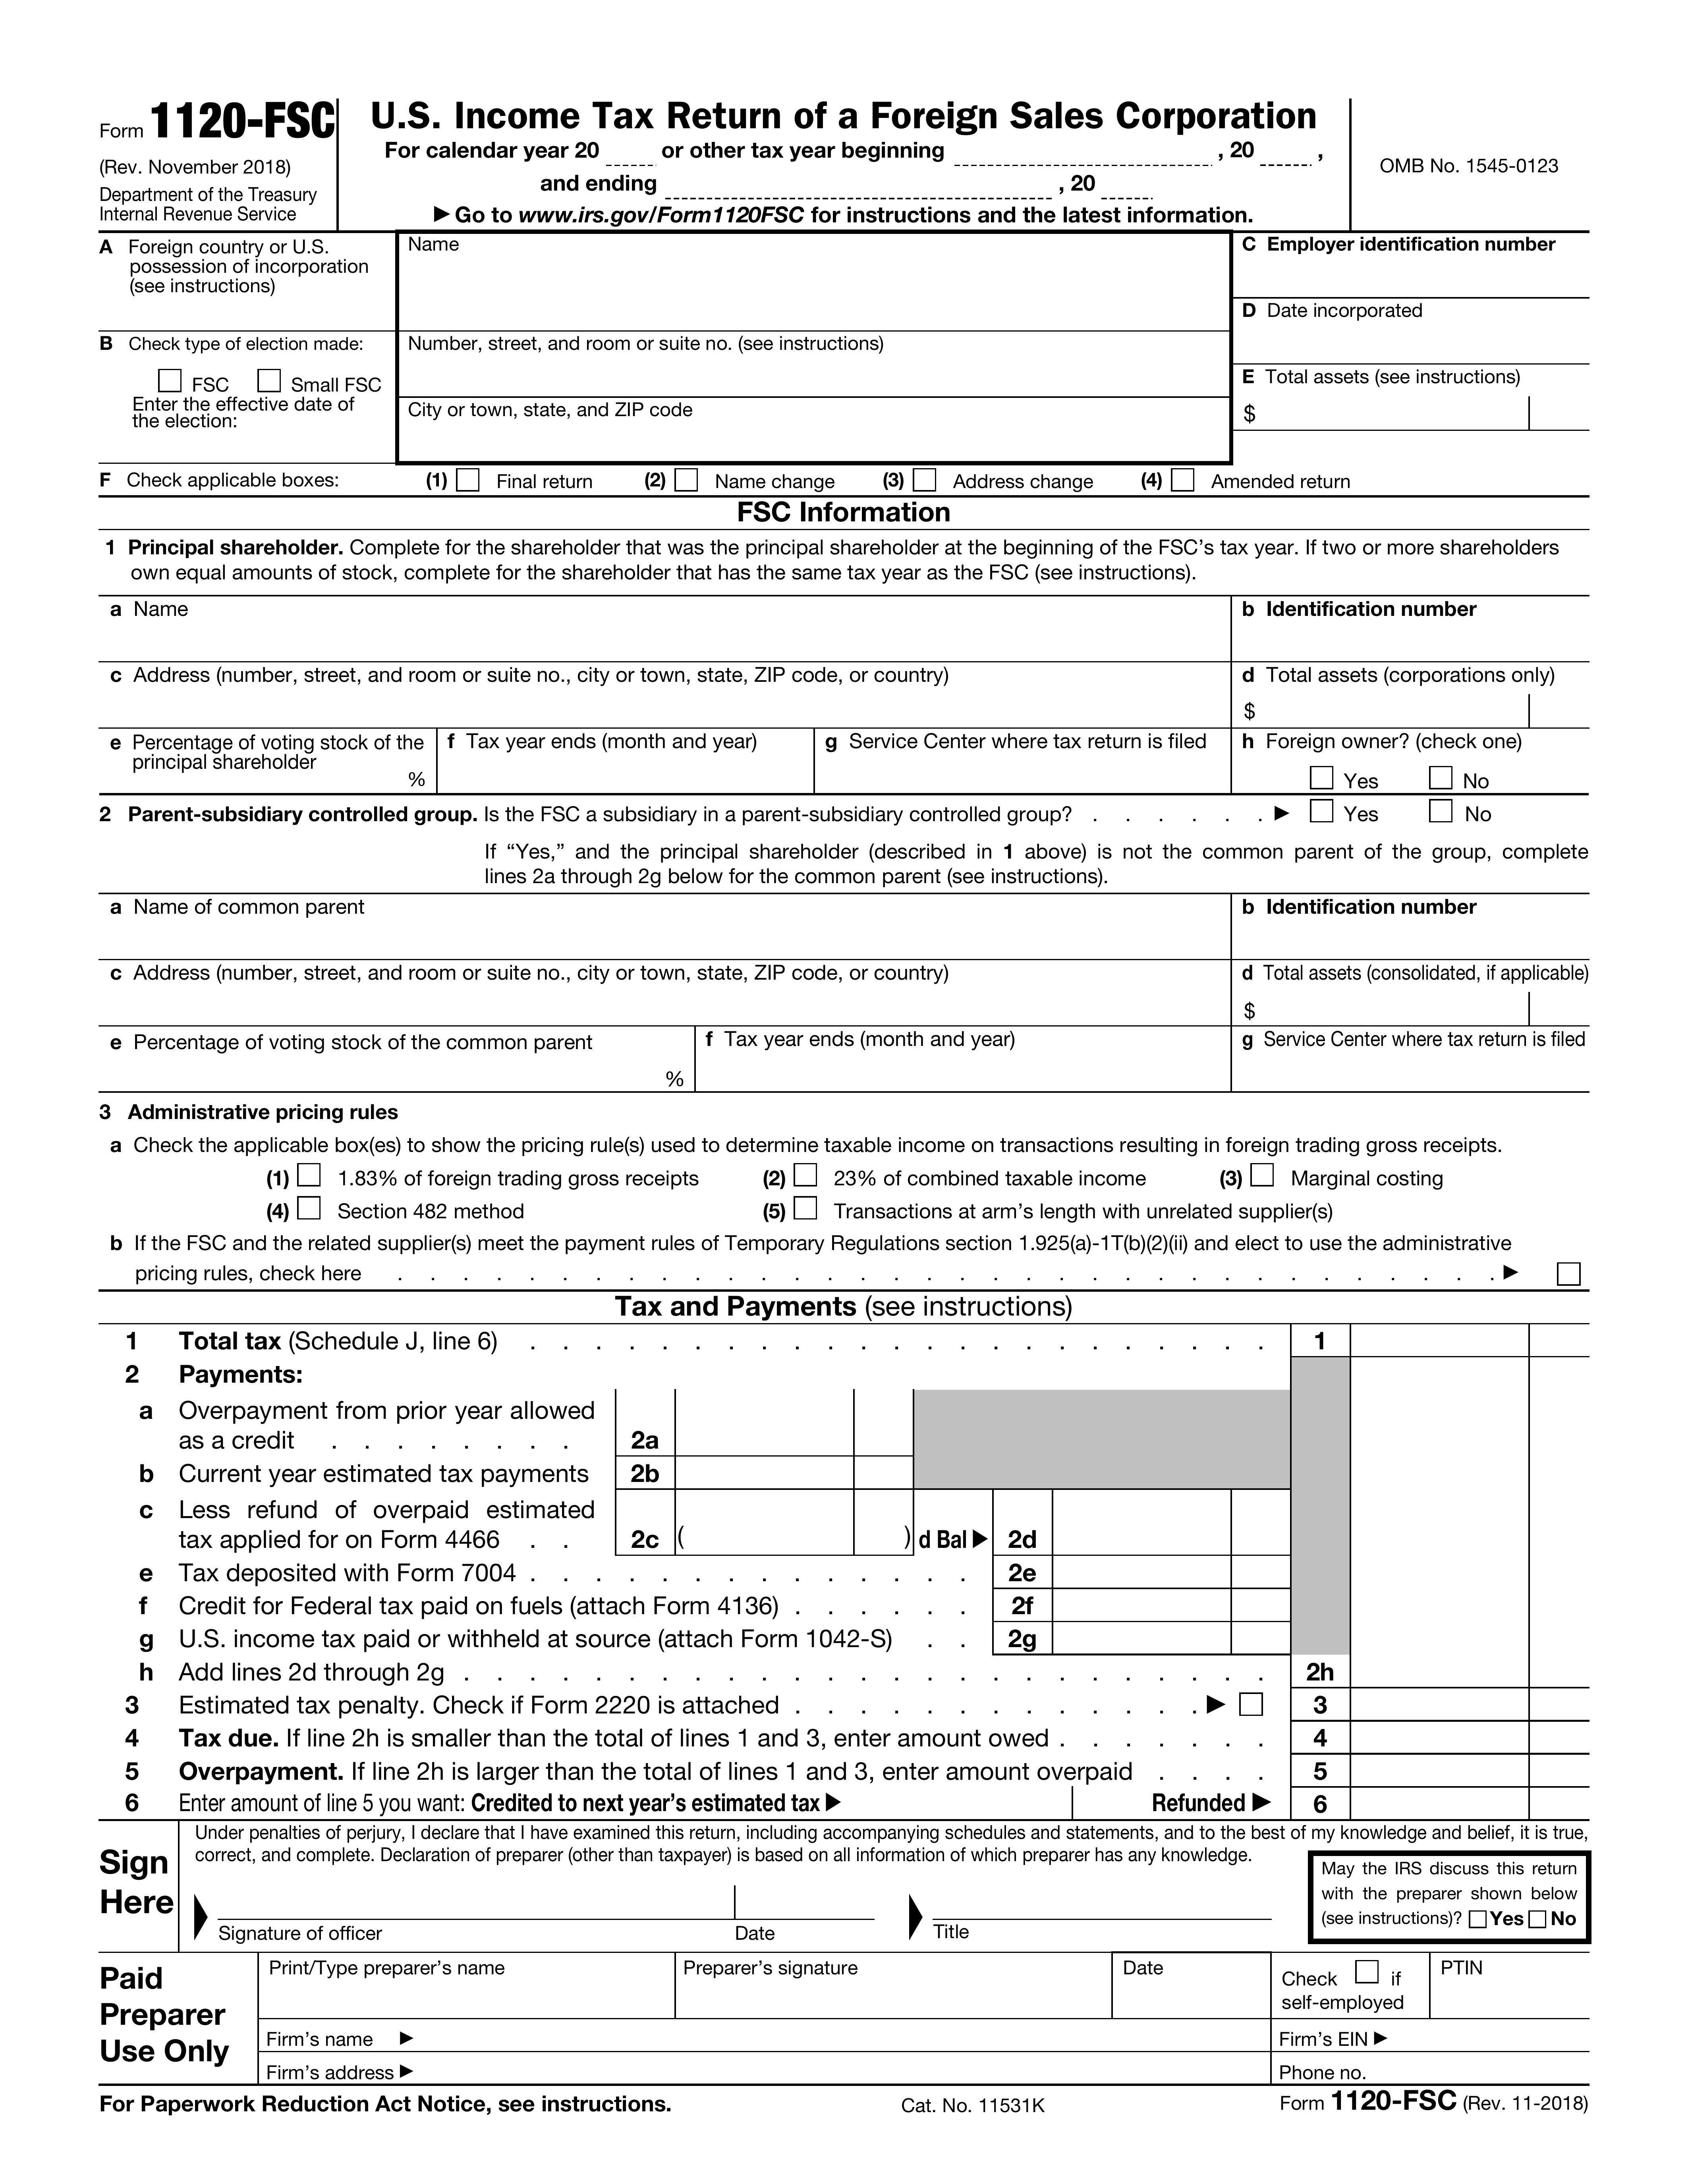form: (53, 498, 1594, 1094), (55, 76, 1628, 498), (76, 1821, 1603, 2094)
table: (76, 1283, 1603, 1821)
